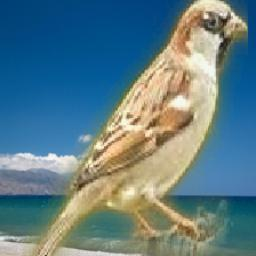Sparrow: (24, 0, 249, 256)
